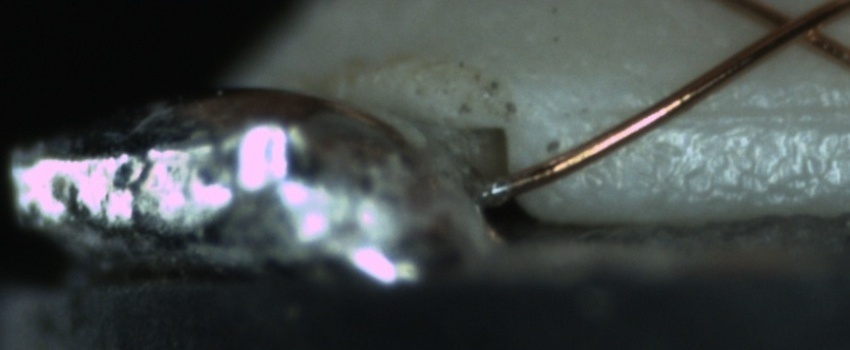CL: (752, 0, 843, 56)
DL: (602, 78, 846, 147)
